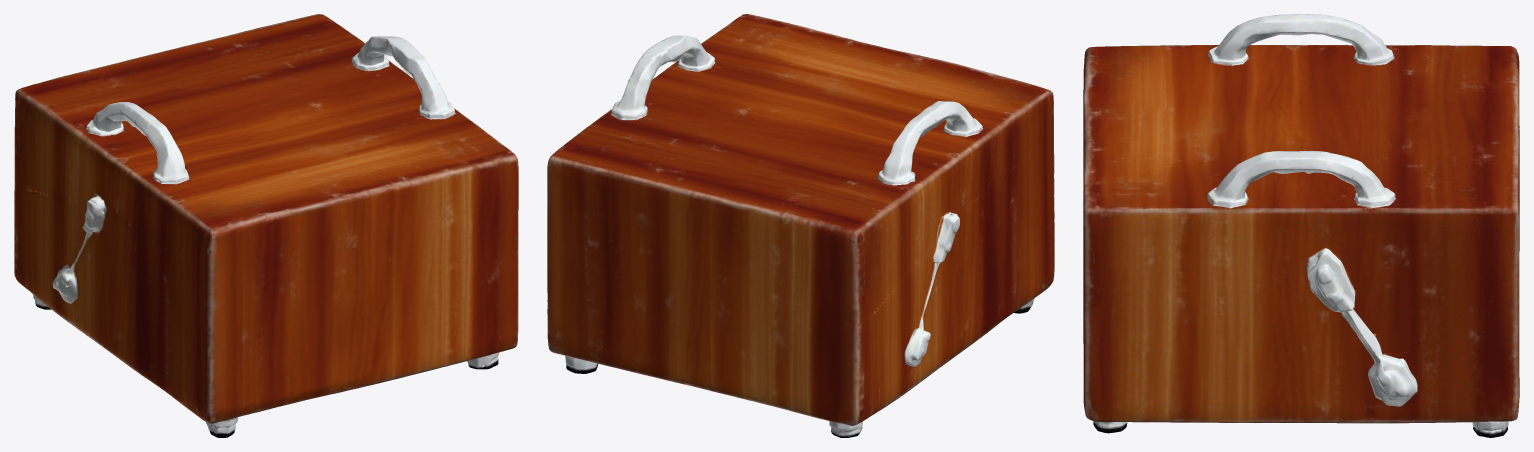
3 renders of one model, left to right at view 1: azimuth 30°, elevation 25°; view 2: azimuth 150°, elevation 25°; view 3: azimuth 270°, elevation 25°, orthographic. The views are drawn at different scales.
Visible parts, largest first — view 1: geometry_0; view 2: geometry_0; view 3: geometry_0.
Part boxes in pixels (bbox=[...]): geometry_0: bbox=[14, 14, 518, 437]; geometry_0: bbox=[547, 14, 1054, 437]; geometry_0: bbox=[1083, 14, 1519, 437].
Size of the model in its own units: 0.996 by 0.7231 by 1.
1 material, 1 textured.
